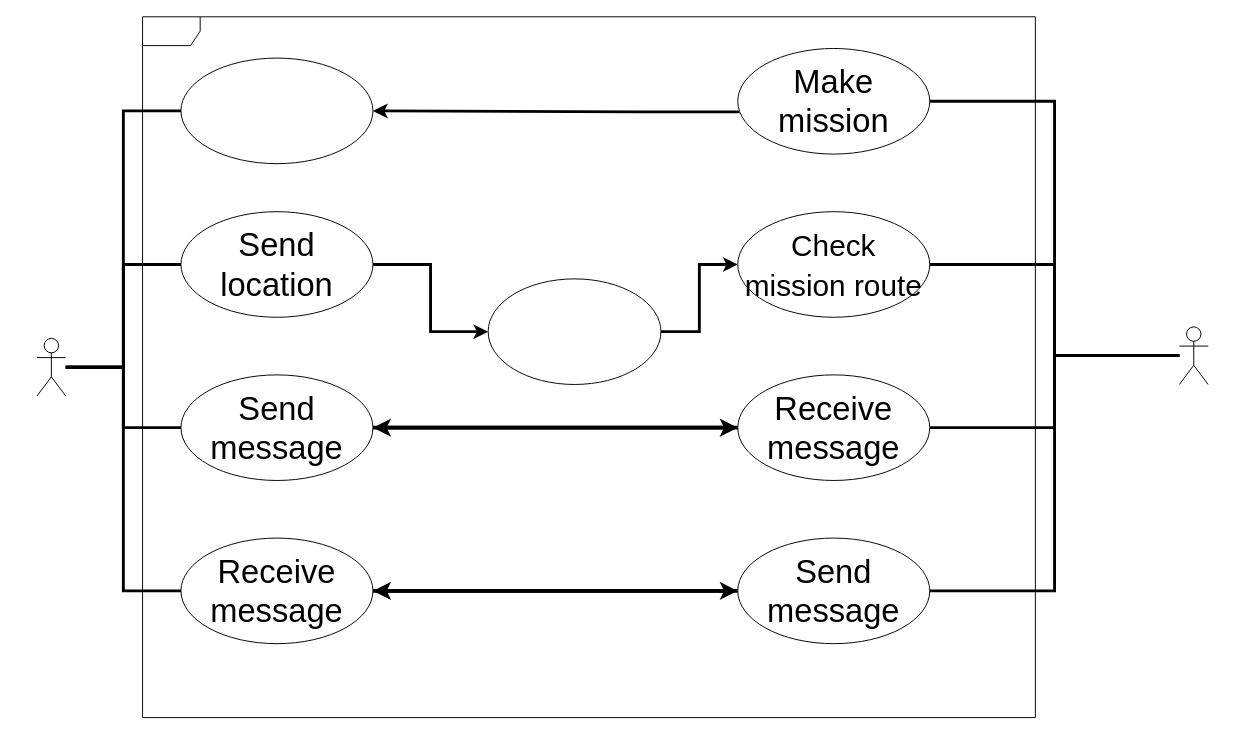
Some shapes in this 1256 by 734 pixel diagram are drawn without their labels. Each missing label, with the centre of its shape:
accept mission: point (276, 110)
Admin: point (1193, 355)
Make Route: point (574, 331)
User: point (51, 366)
